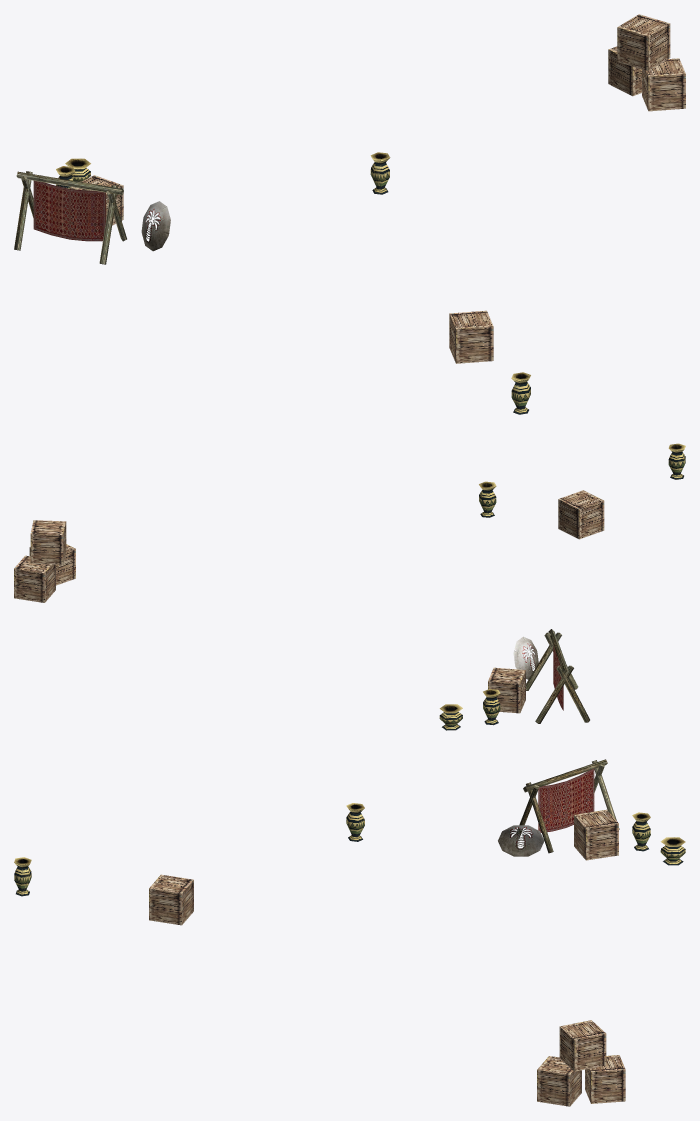
The model's file is kart_governmentcentre_b.dae.
3 renders of one model, top to bottom at view 1: azimuth 30°, elevation 25°; view 2: azimuth 150°, elevation 25°; view 3: azimuth 270°, elevation 25°, orthographic. The views are drawn at different scales.
Parts seen in each view (by area): view 1: Cylinder15; view 2: Cylinder15; view 3: Cylinder15.
Boxes of the visible parts, <box> form: Cylinder15: <box>14,14,685,414</box>; Cylinder15: <box>14,443,685,730</box>; Cylinder15: <box>14,759,685,1106</box>.
Bounding box in the file's own units: 29.86 × 5.51 × 28.69.
